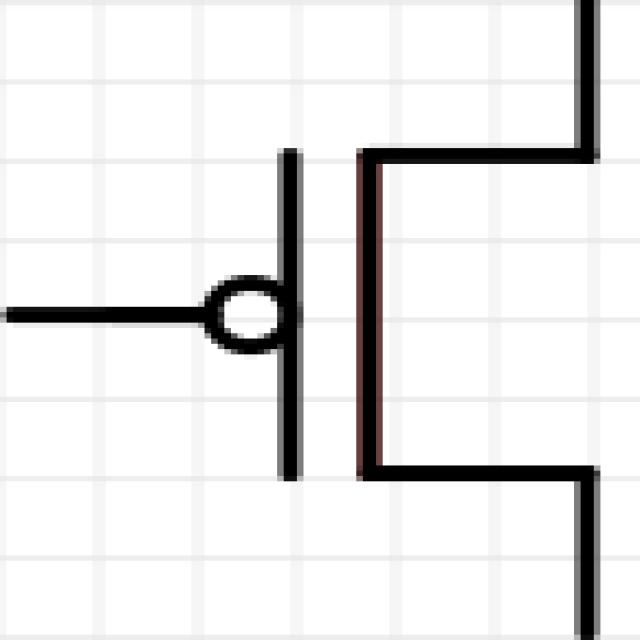pmos: (47, 87, 640, 640)
